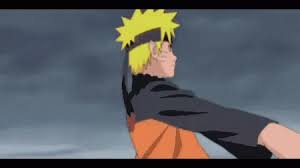Naruto: (118, 8, 180, 82)
